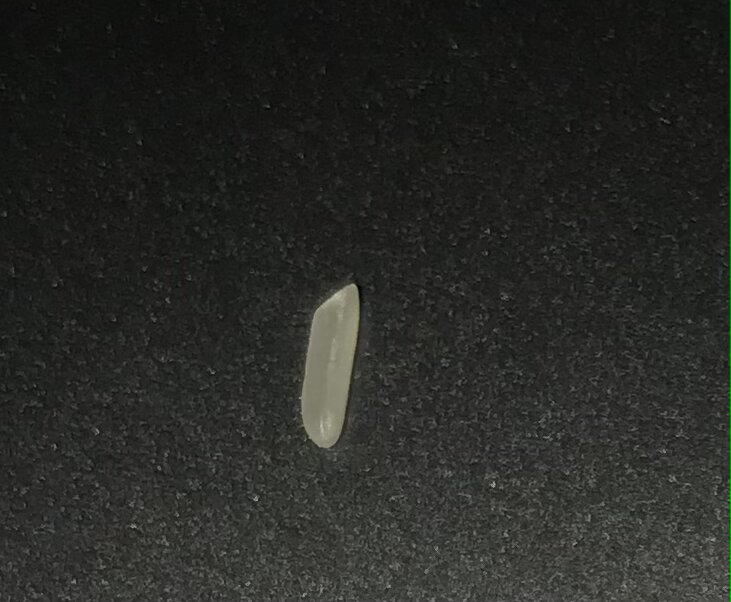Gao Long Lai: (296, 272, 362, 453)
